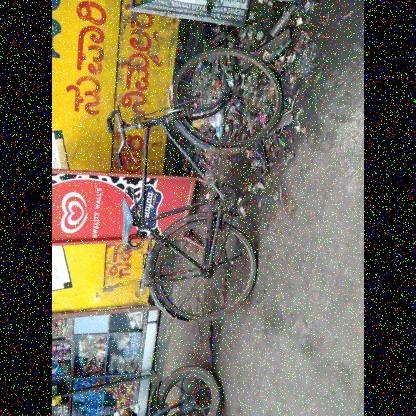Bicycle: (109, 29, 287, 333), (64, 2, 120, 143)
